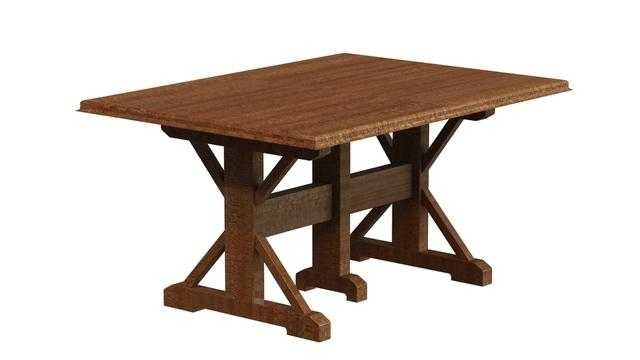obstacle: (80, 54, 568, 340)
